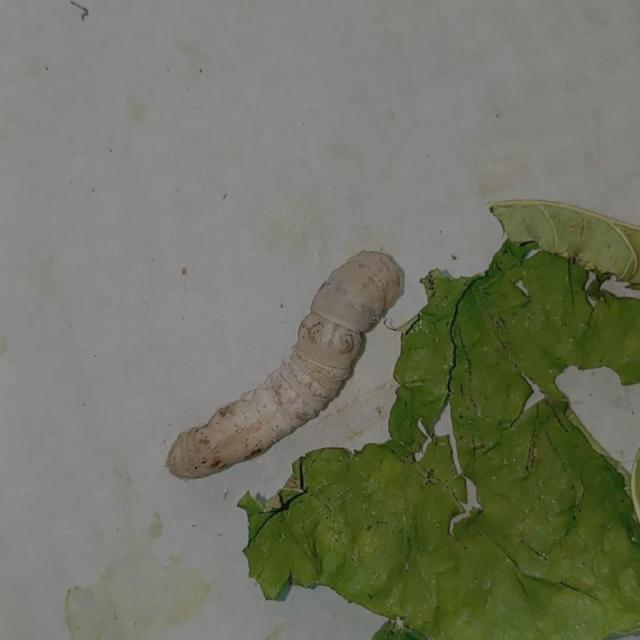Grasserie: (135, 240, 446, 486)
